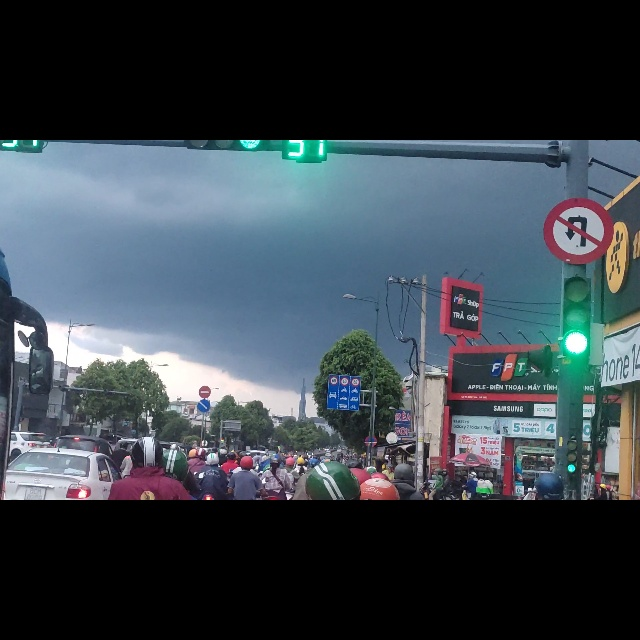bien_hieu_lenh: (542, 102, 614, 221), (326, 415, 361, 481), (197, 460, 211, 484), (199, 436, 211, 460)
